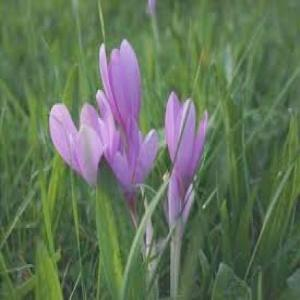Saffron: (48, 94, 114, 192), (98, 39, 147, 141), (110, 120, 158, 215), (166, 91, 208, 197)
